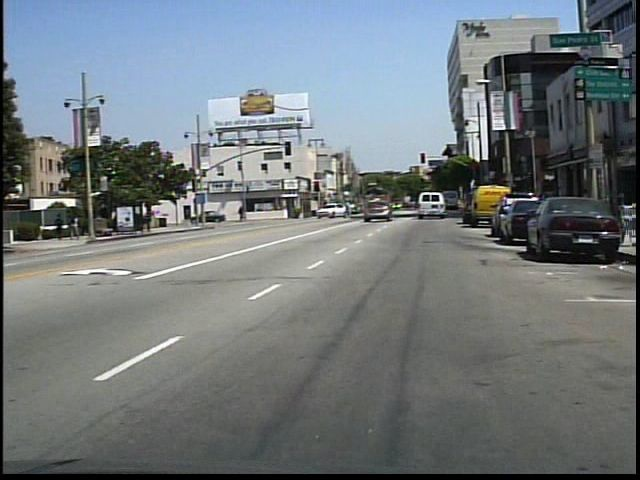person: (72, 212, 89, 244), (58, 212, 71, 241), (243, 204, 250, 222)
